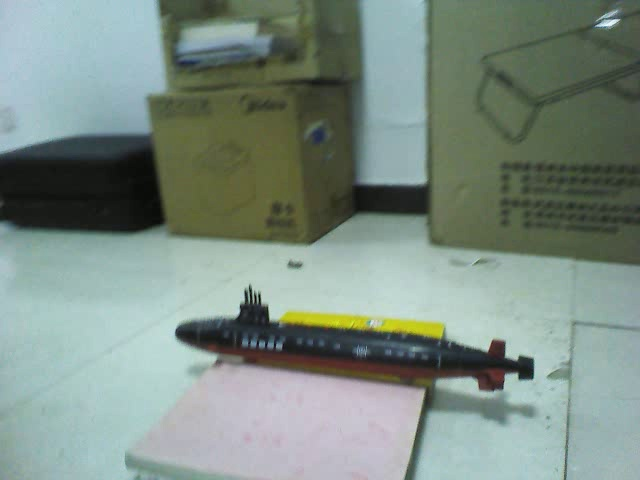submarine: (174, 287, 537, 399)
